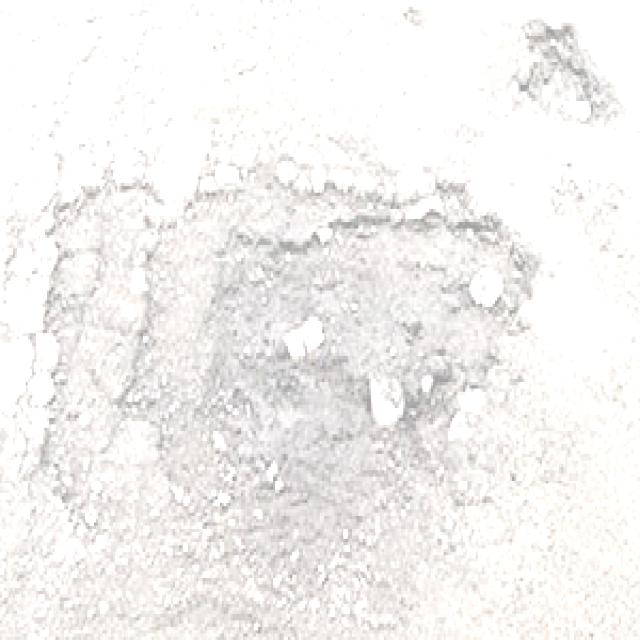Pothole: (39, 162, 549, 630)
